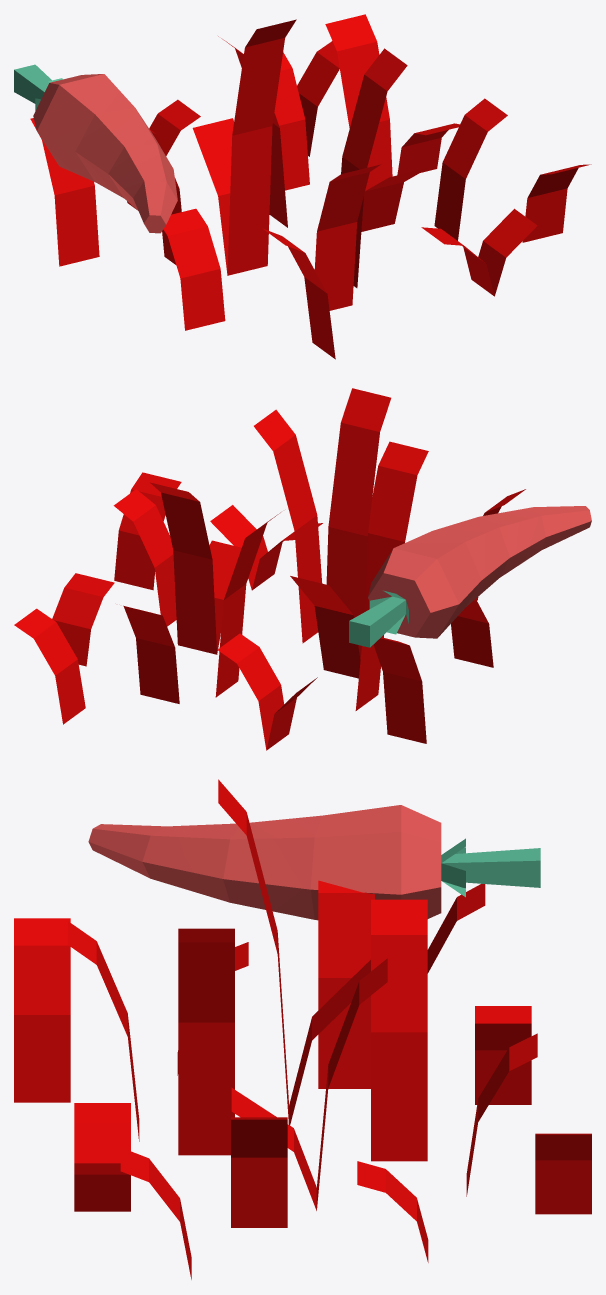
Rendered from spice-icon.fbx.
The picture shows the model from 3 angles, top to bottom: view 1: azimuth 30°, elevation 25°; view 2: azimuth 150°, elevation 25°; view 3: azimuth 270°, elevation 25°; orthographic projection. The views are drawn at different scales.
Parts seen in each view (by area): view 1: mergedBlocks; view 2: mergedBlocks; view 3: mergedBlocks.
Boxes of the visible parts, box(x1,y1,x2,y2) form: mergedBlocks: box(14, 14, 591, 359); mergedBlocks: box(14, 388, 591, 750); mergedBlocks: box(14, 779, 591, 1279).
Bounding box in the file's own units: 4.51 × 2.54 × 4.08.
